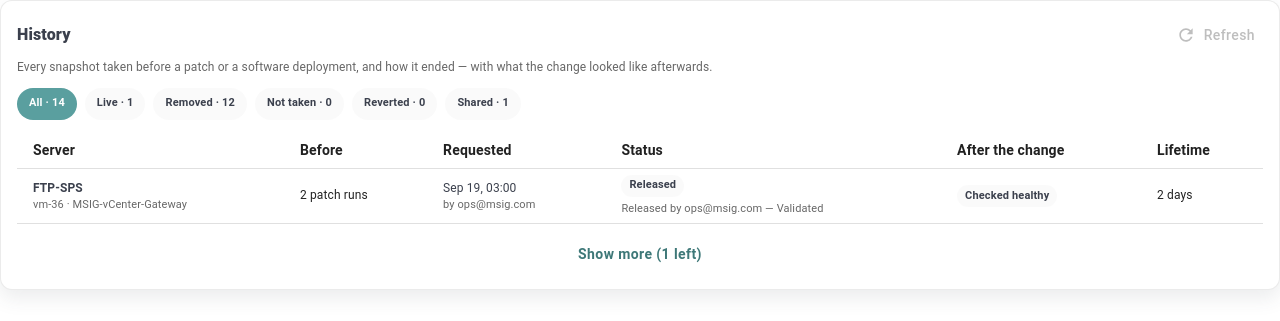
Test: SnapshotHistoryPanel › pages with Show more
The image size is (1280, 321).
What coordinates should you click on to do the following:
click the button "Show more (1 left)"
I would click on:
 (640, 254)
Its box is [570, 236, 710, 272].
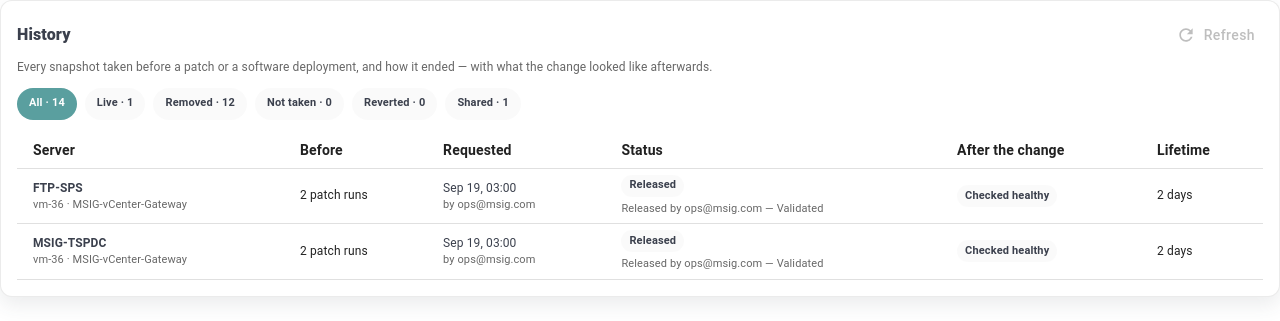
Expected: the text "FTP-SPS" is shown, [33, 180, 83, 194]
Expected: the text "MSIG-TSPDC" is shown, [33, 236, 106, 250]
